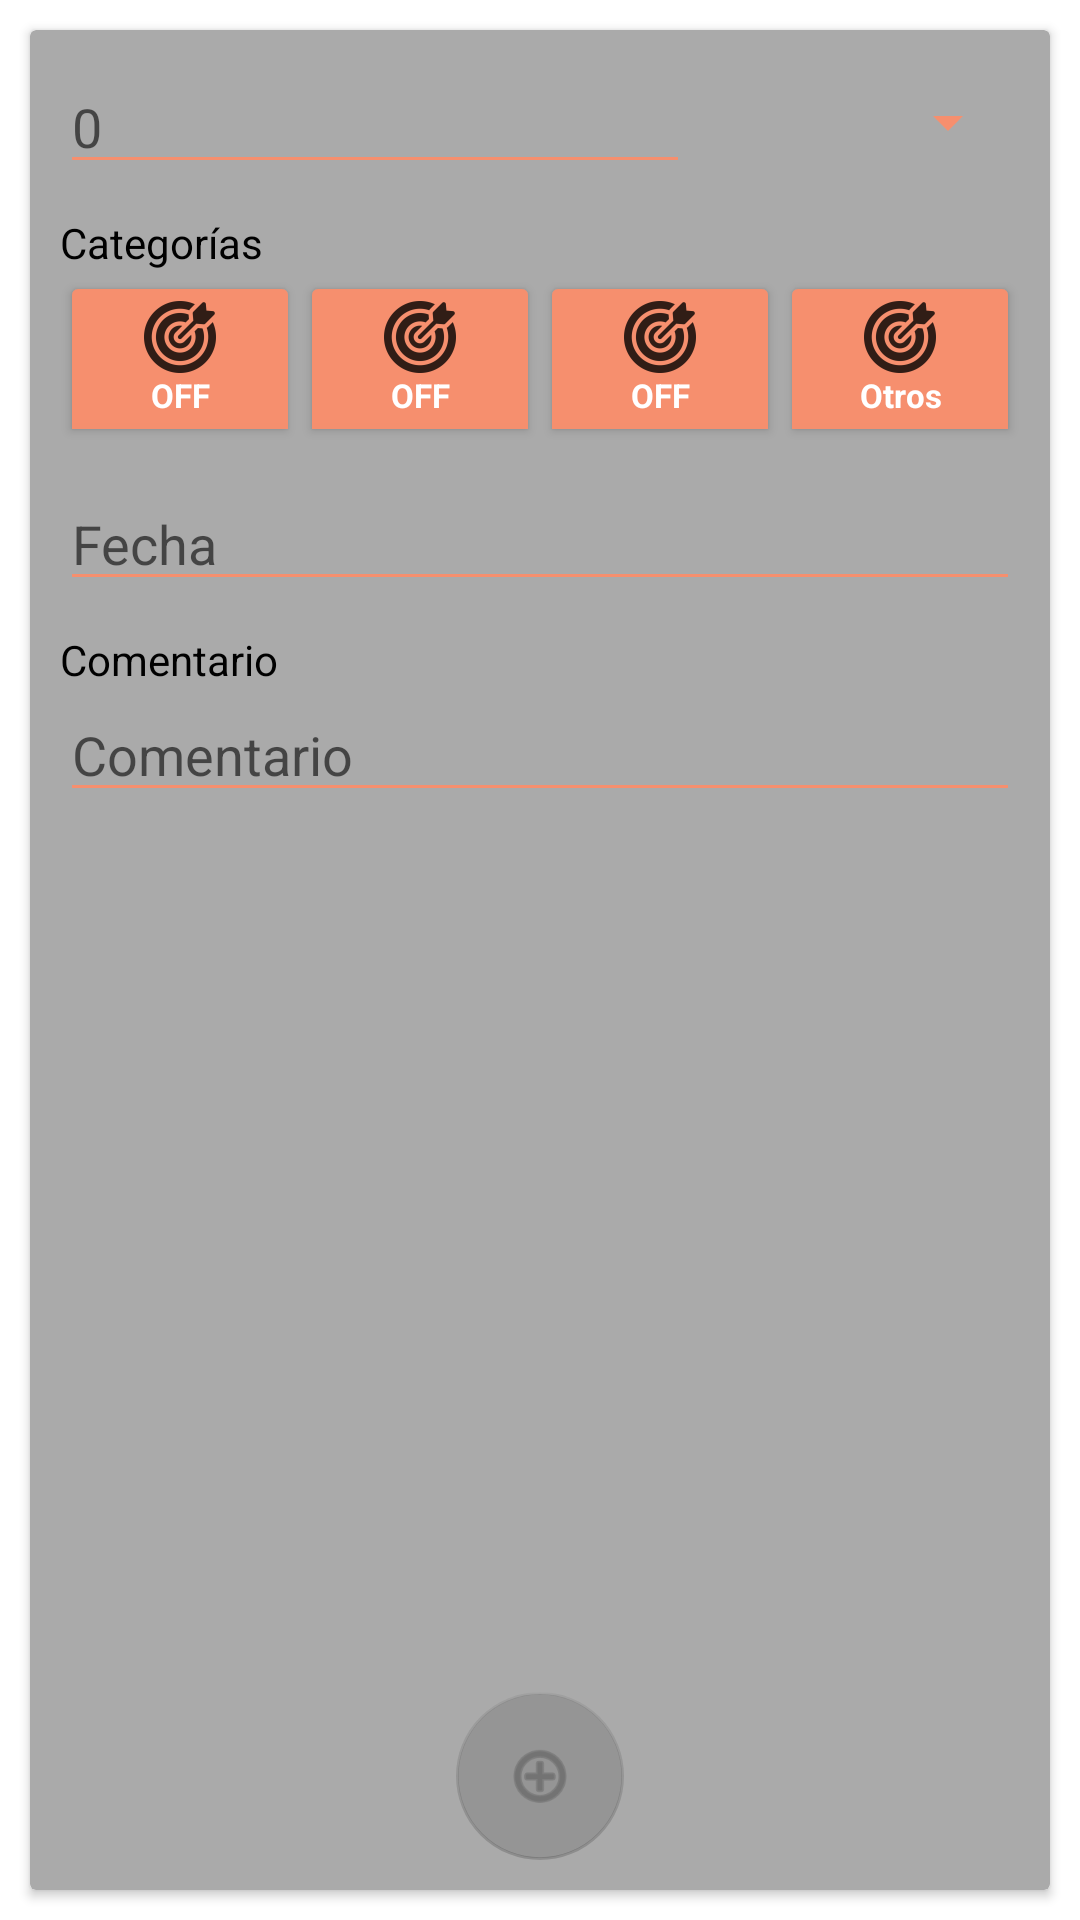

Icons on this 1080 × 1920 Android screen, each with the point to tap as (x=x, y=y):
add: (x=540, y=1777)
